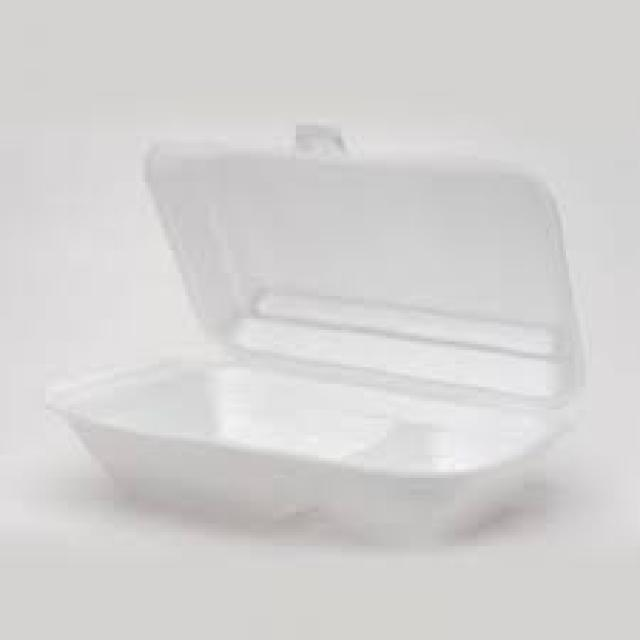styrofoam: (48, 145, 582, 544)
